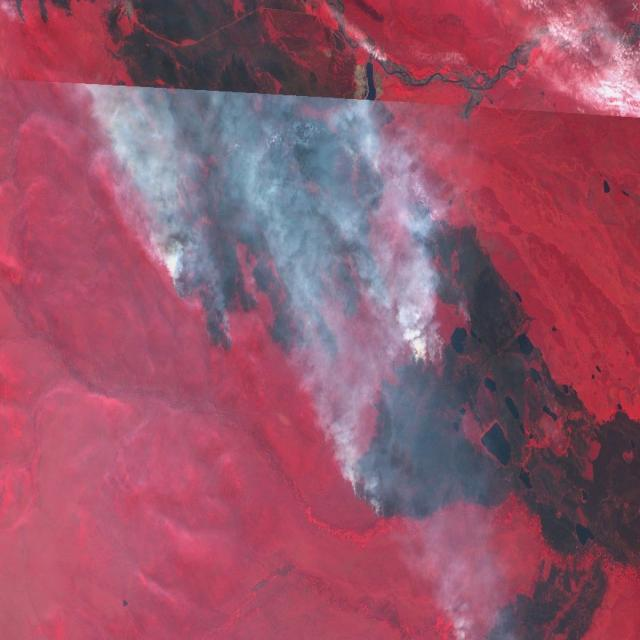fire: (102, 89, 246, 340), (258, 153, 377, 331), (370, 324, 450, 389), (405, 190, 456, 287), (342, 423, 392, 517), (6, 0, 70, 33)
